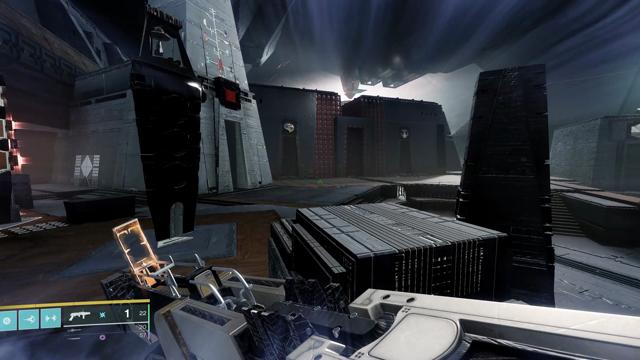brain: (283, 121, 295, 134)
commune: (631, 124, 640, 138)
drink: (400, 128, 409, 138)
stop: (222, 84, 239, 106)
